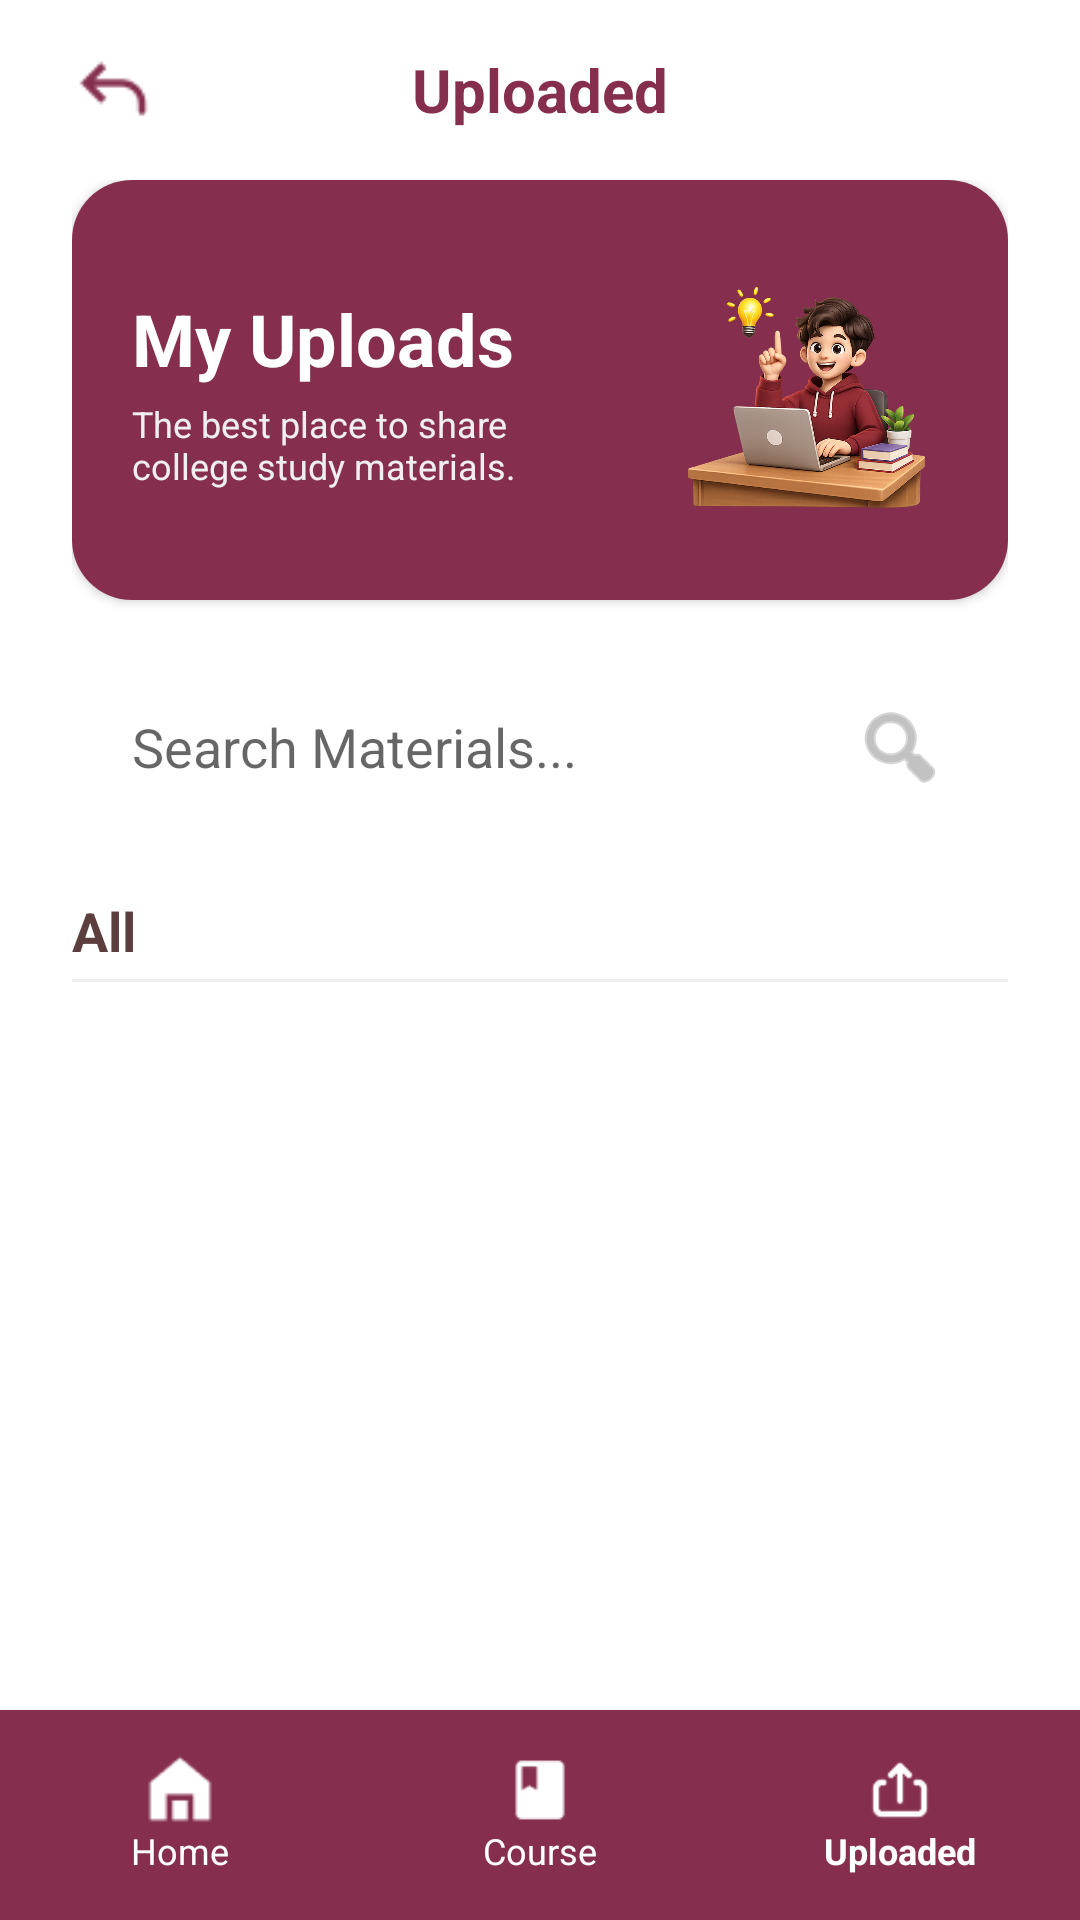

Where icons sit on this 1080*1920 app screen, as (x1, y1, x2, y2):
back: (80, 61, 148, 116)
upload admin: (872, 1762, 928, 1818)
